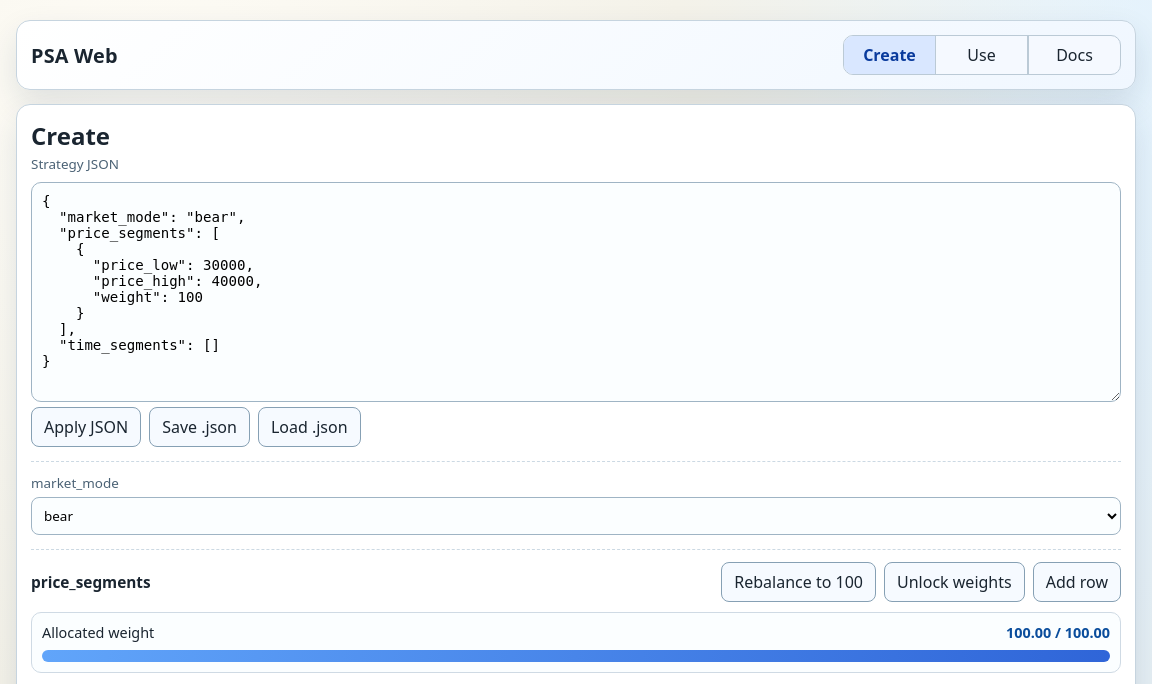
Test case: App › switches between Create and Use modes
The width and height of the screenshot is (1152, 684).
Expected: the heading "Create" is shown, [31, 119, 110, 152]
What coordinates should you click on to do the following:
click the tab "Use"
I would click on:
 (982, 55)
Its box is [936, 36, 1028, 74].
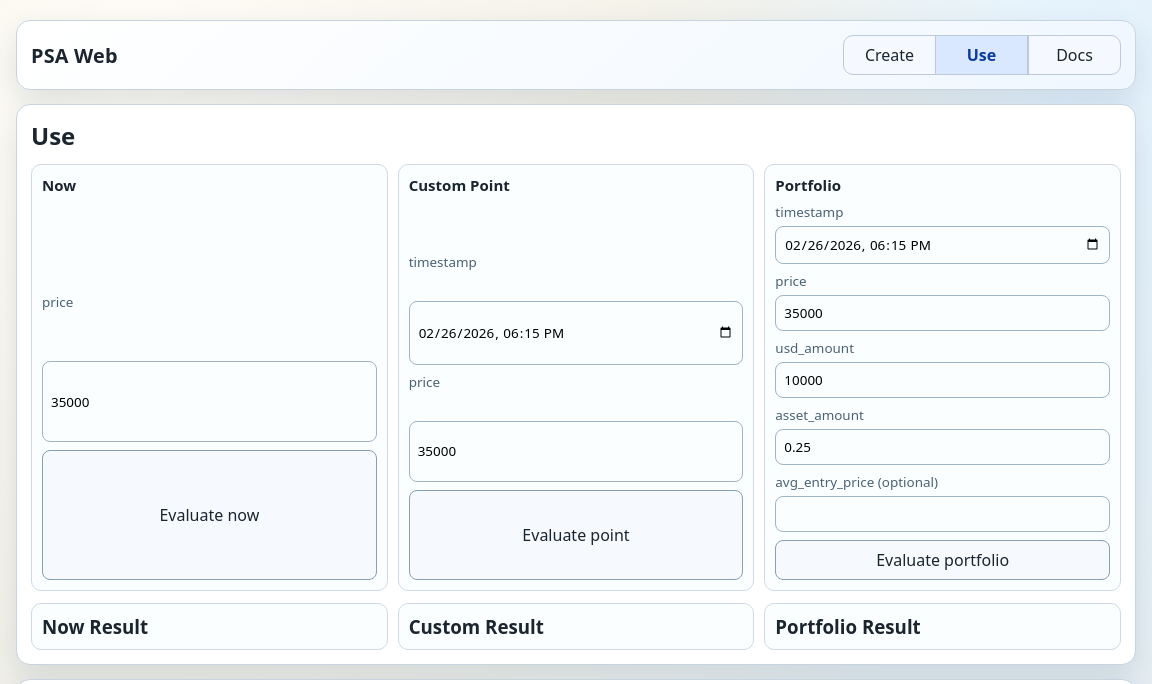
Expected: the heading "Use" is shown, [31, 119, 75, 152]
